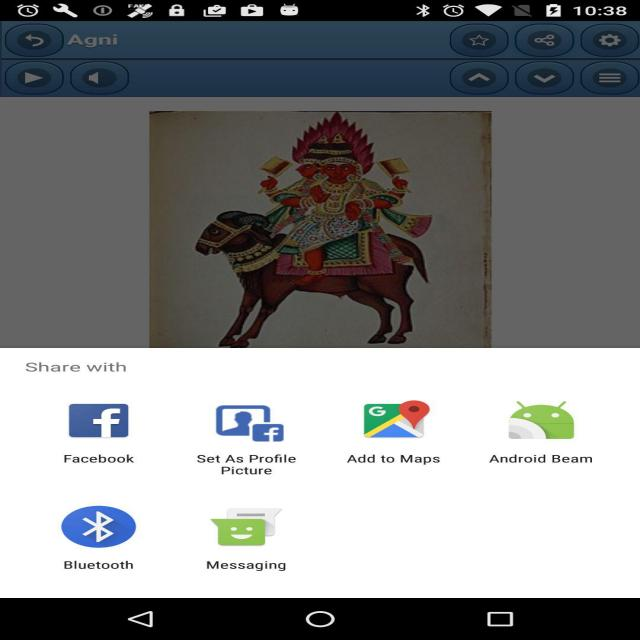button: (1, 60, 75, 94), (74, 62, 154, 92), (446, 24, 515, 58), (511, 22, 575, 58), (2, 26, 68, 60), (574, 24, 636, 60), (514, 61, 578, 94), (446, 63, 508, 94), (583, 62, 640, 93)
icon: (463, 68, 495, 92), (16, 32, 53, 52), (529, 70, 561, 89), (591, 69, 623, 88), (17, 71, 52, 88), (83, 71, 115, 89), (529, 33, 560, 50), (468, 32, 496, 50), (594, 32, 623, 48)
image: (146, 107, 498, 349), (46, 500, 167, 550), (343, 396, 449, 440), (208, 394, 304, 441), (500, 397, 585, 445), (212, 503, 302, 546), (67, 401, 134, 438)
text: (190, 454, 310, 476), (481, 452, 599, 467), (22, 360, 131, 375), (201, 558, 291, 576), (66, 30, 128, 51), (62, 453, 144, 468), (353, 454, 452, 466), (61, 560, 140, 573)
